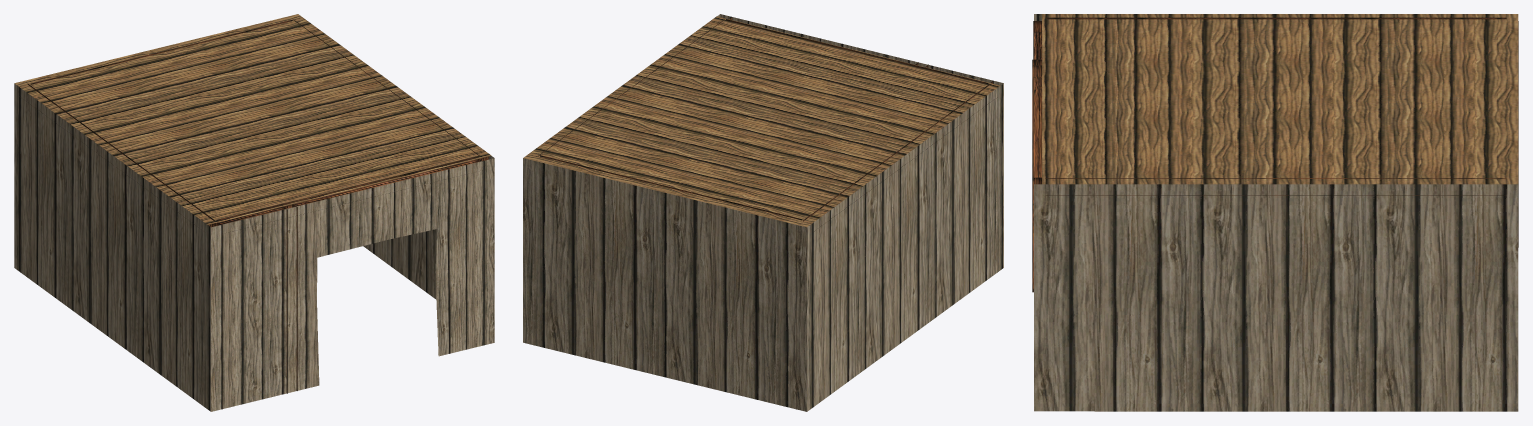
The model's file is LAKETOWN_WAREHOUSE2_PS_WH2_WH3_WEAPONROOM__GX.fbx.
The picture shows the model from 3 angles, left to right: view 1: azimuth 30°, elevation 25°; view 2: azimuth 150°, elevation 25°; view 3: azimuth 270°, elevation 25°; orthographic projection. The views are drawn at different scales.
Parts seen in each view (by area): view 1: LAKETOWN_WAREHOUSE2_PS_WH2_WH3_WEAPONROOM__GX; view 2: LAKETOWN_WAREHOUSE2_PS_WH2_WH3_WEAPONROOM__GX; view 3: LAKETOWN_WAREHOUSE2_PS_WH2_WH3_WEAPONROOM__GX.
Part boxes in pixels (box(x1,y1,x2,y2)): LAKETOWN_WAREHOUSE2_PS_WH2_WH3_WEAPONROOM__GX: box(14, 14, 494, 411); LAKETOWN_WAREHOUSE2_PS_WH2_WH3_WEAPONROOM__GX: box(523, 14, 1003, 411); LAKETOWN_WAREHOUSE2_PS_WH2_WH3_WEAPONROOM__GX: box(1032, 14, 1518, 411).
Bounding box in the file's own units: 67110 × 41955 × 80826.
3 materials, 3 textured.
